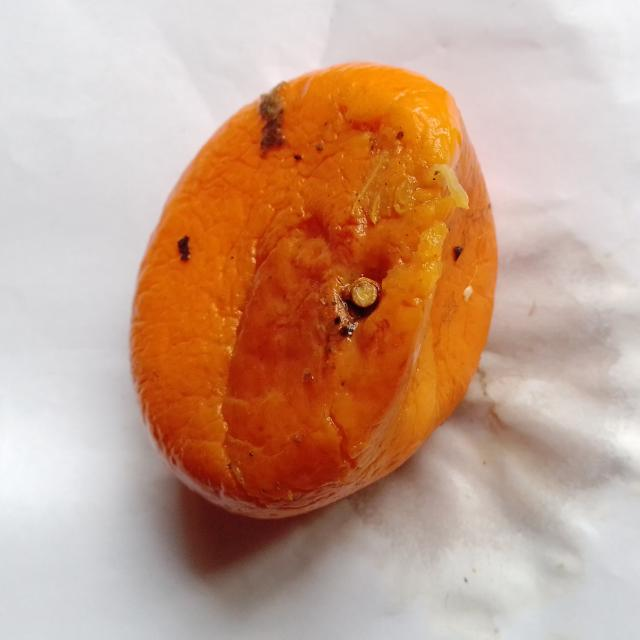orange: (132, 64, 496, 517)
